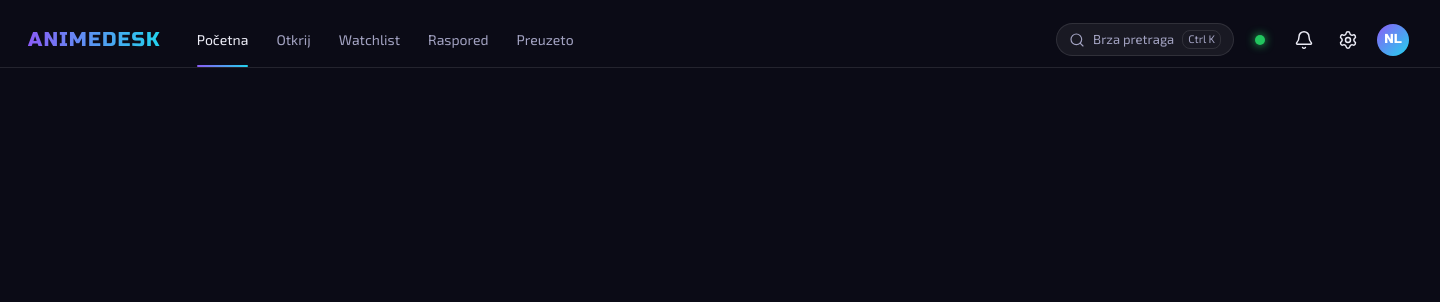
TopBar › avatar menu › signs the app without a version
Click the button with aria-label "Nalog" at (1393, 40), box [1374, 20, 1412, 58]
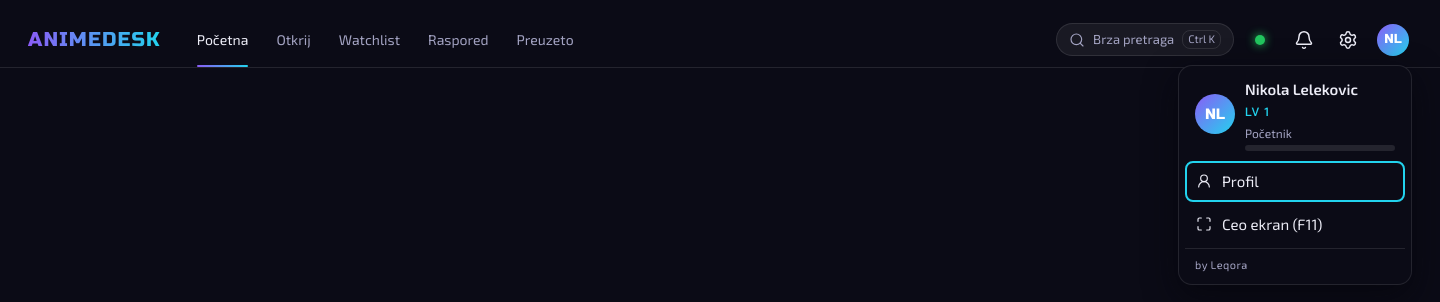
Result: the text "by Leqora" is shown at [1185, 248, 1405, 278]
